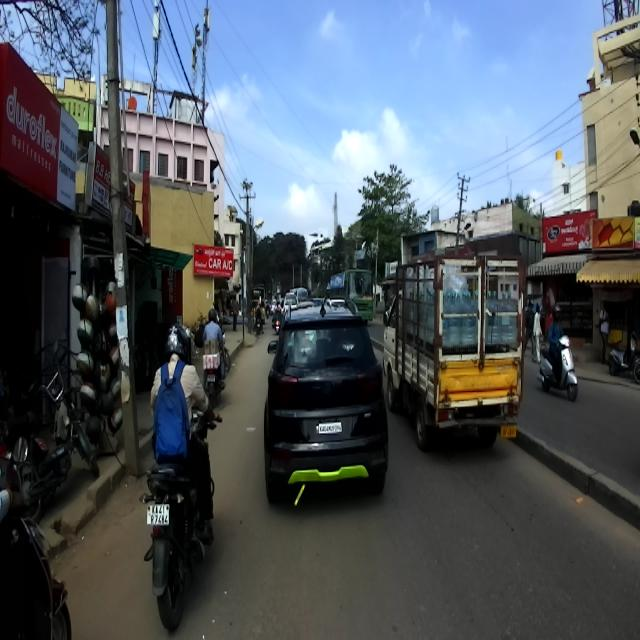car ahead at: (259, 299, 397, 505), (392, 257, 524, 448)
motorcycle ahead at: (144, 445, 228, 629)
